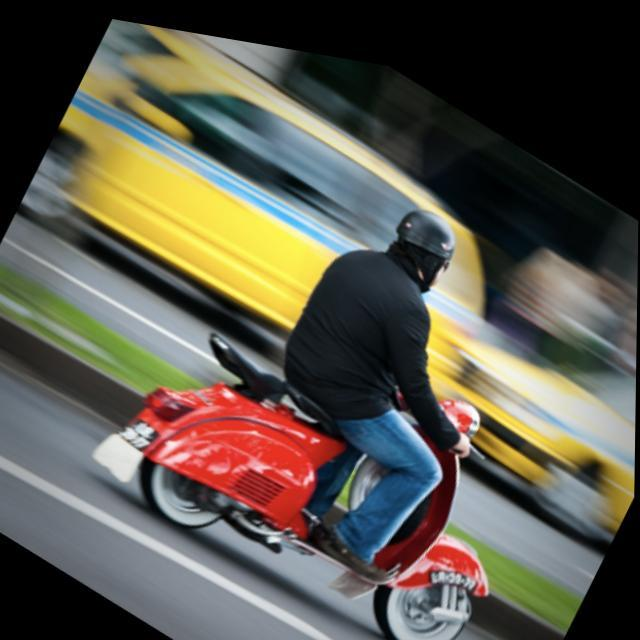Helmet: (386, 193, 464, 300)
